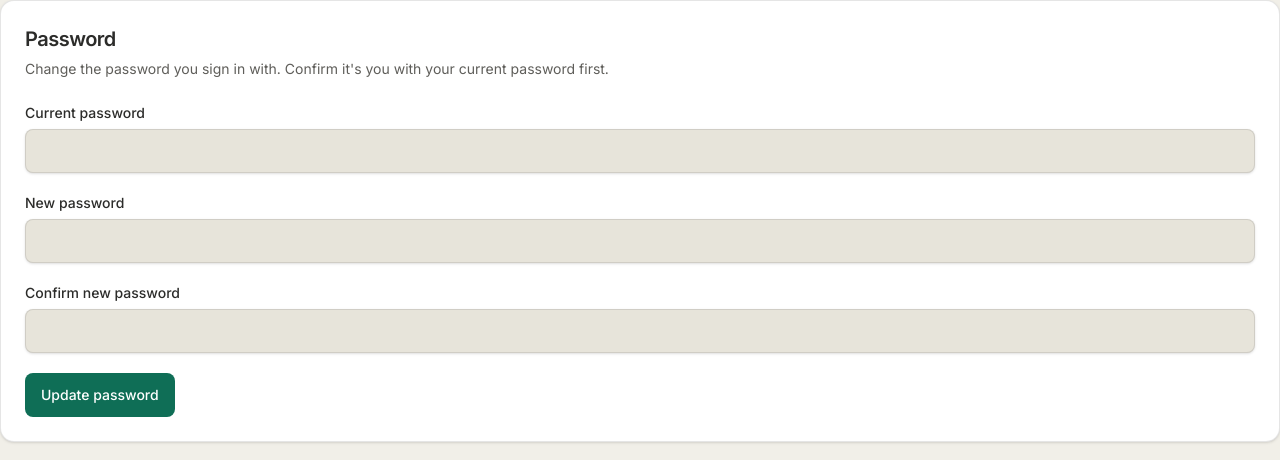
Scenario: ChangePasswordSection › changes the password and shows the saved state
Type "oldpassword1" into the password field labelled "Current password" at (640, 151), box 25,129 -> 1255,173
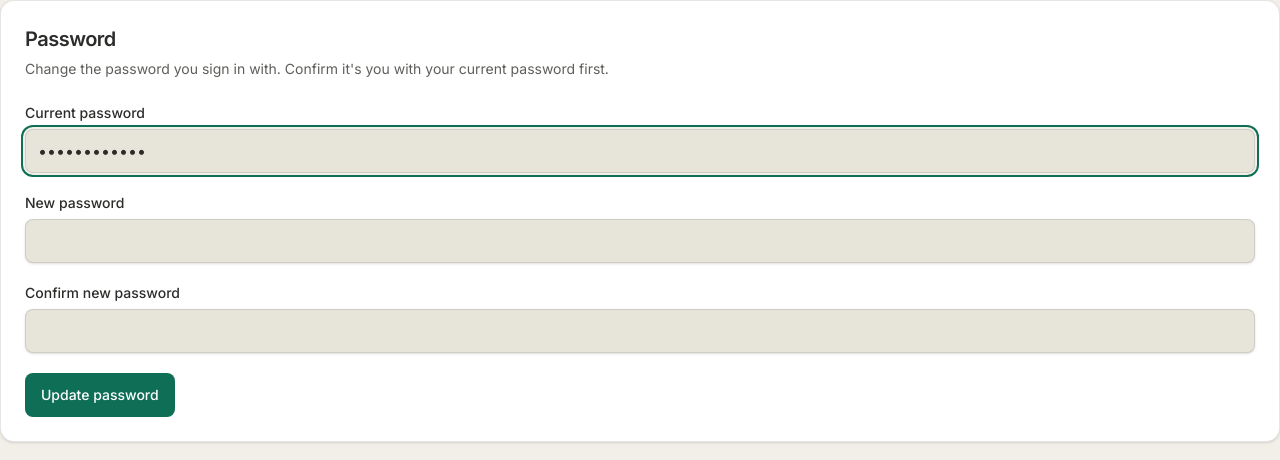
Type "longenough1" into the password field labelled "New password" at (640, 241), box 25,219 -> 1255,263
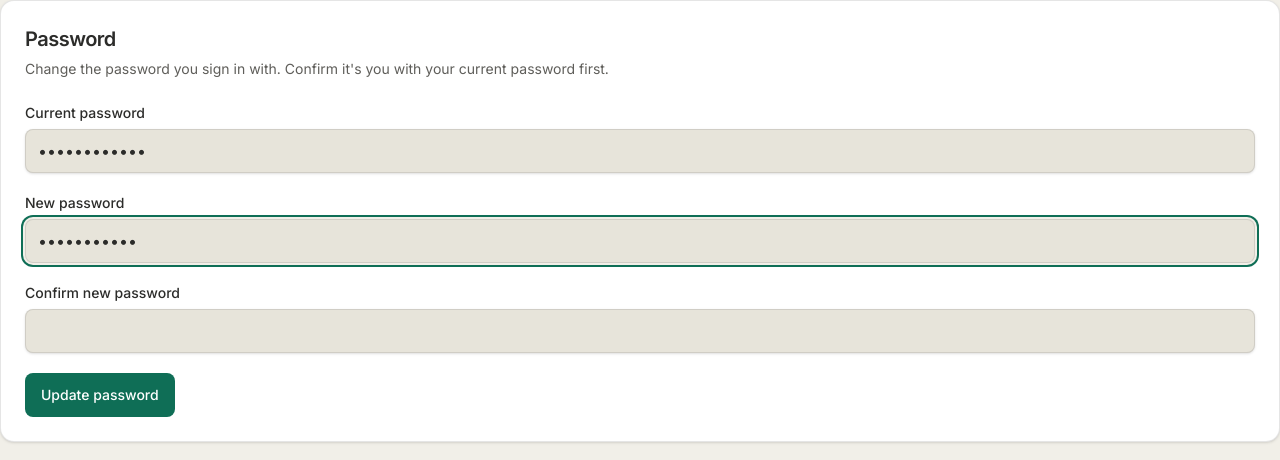
Type "longenough1" into the password field labelled "Confirm new password" at (640, 331), box 25,309 -> 1255,353
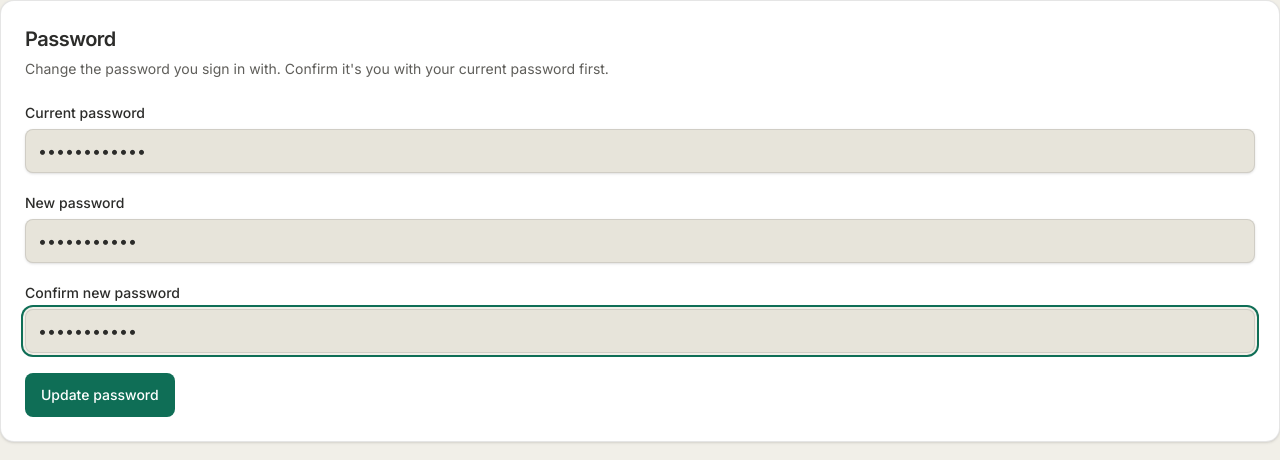
Click the button "Update password" at (100, 395), box 25,373 -> 175,417
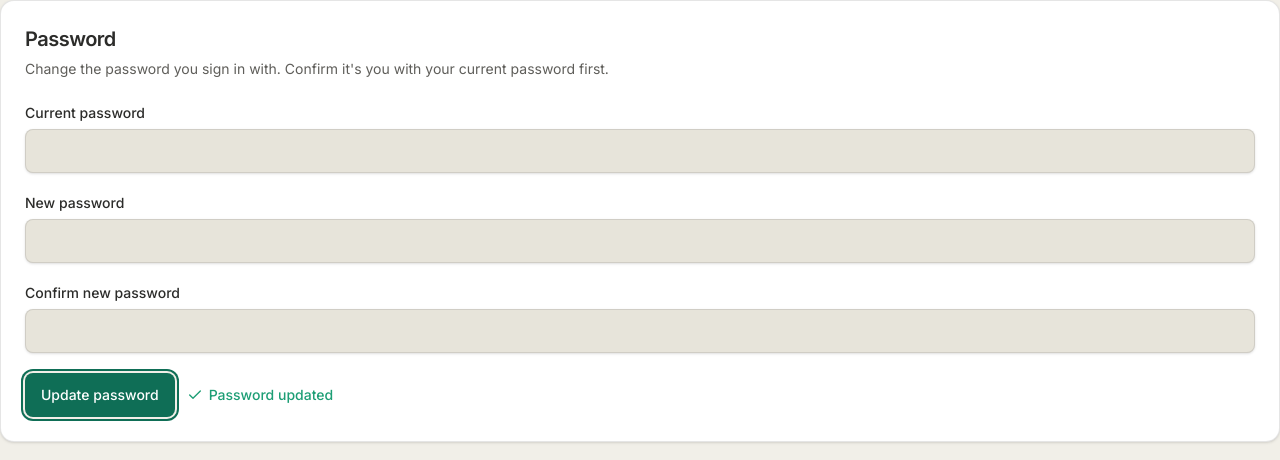
expect the text "Password updated" is shown: met, box 187,385 -> 333,405
